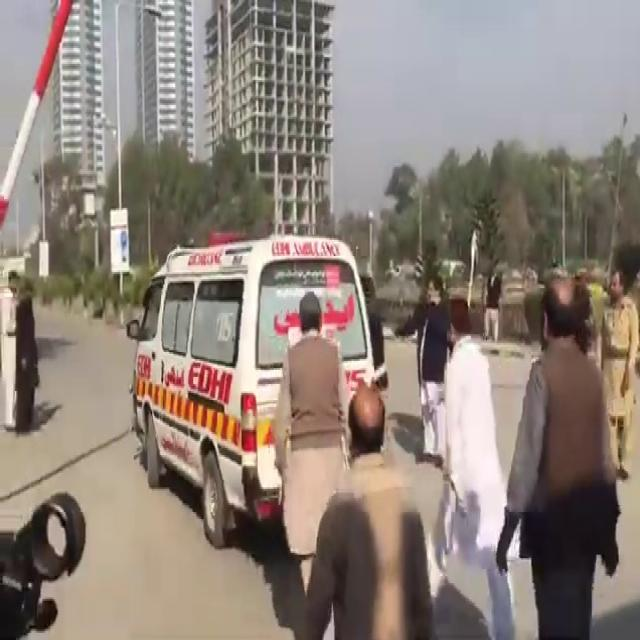ambulance: (123, 196, 411, 502)
